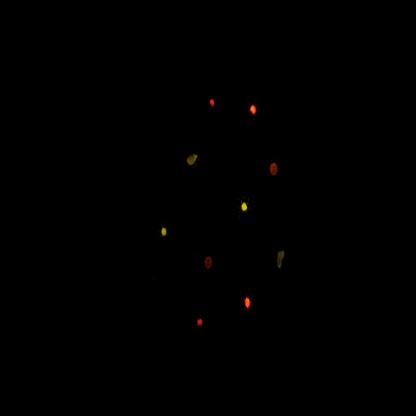PE: (159, 218, 172, 244), (240, 193, 251, 218)
PET: (203, 82, 223, 120), (194, 312, 210, 338)
PP: (182, 147, 205, 181), (276, 244, 288, 274)
PS: (201, 248, 219, 282), (268, 155, 281, 183)
PVC: (239, 281, 257, 322), (246, 98, 262, 126)
